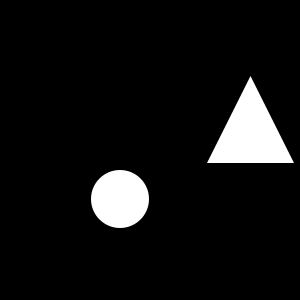rectangle: (91, 170, 149, 228)
triangle: (207, 76, 294, 163)
